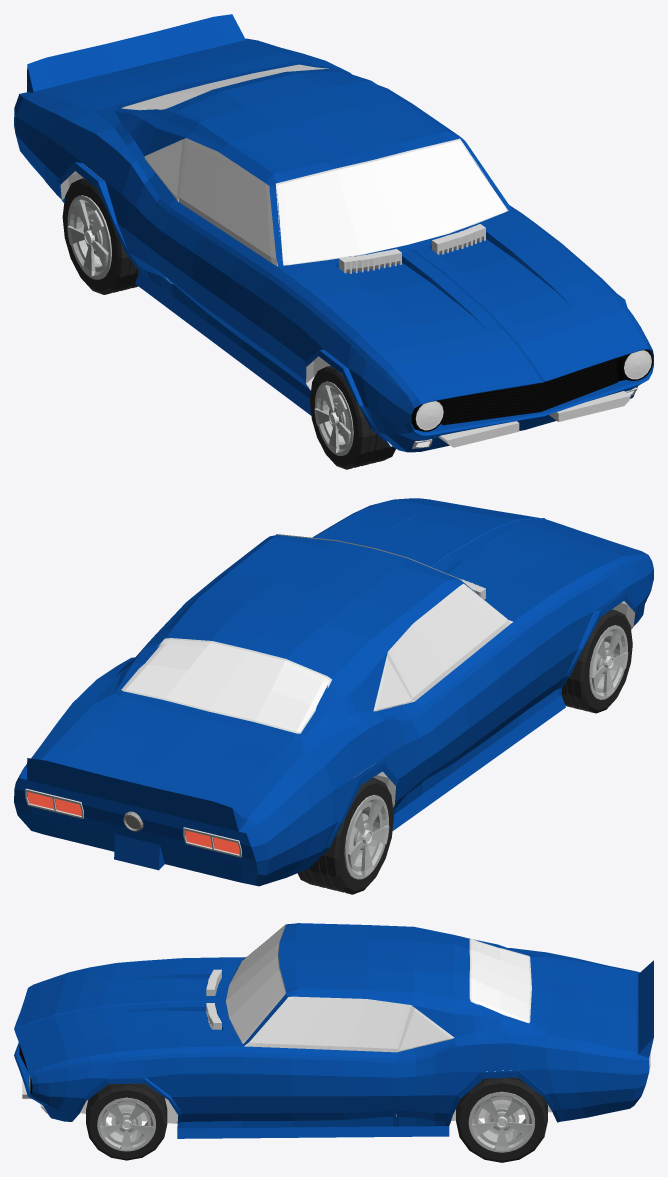
File: car.glb
3 renders of one model, top to bottom at view 1: azimuth 30°, elevation 25°; view 2: azimuth 150°, elevation 25°; view 3: azimuth 270°, elevation 25°, orthographic. The views are drawn at different scales.
Parts seen in each view (by area): view 1: Carroceria.001, Parabrisas_Ad, Pueratas, Ventana_1, Rejilla, Ruedas_Ad.002, Ruedas_Tr, Rin_1_Tr, Plano.002, Rin_1_Ad, Cubo, Parabrisas_Tr (+4 smaller); view 2: Carroceria.001, Parabrisas_Tr, Pueratas, Ventana_1, Ruedas_Tr, Ruedas_Ad.002, Rin_1_Tr, Rin_1_Ad, Luz_Tr, Marco_Parabrisad_Tr, Ventana_2; view 3: Carroceria.001, Pueratas, Ventana_1, Parabrisas_Ad, Parabrisas_Tr, Ruedas_Tr.001, Ruedas_Ad.001, Rin_1_Tr.001, Rin_1_Ad.001, Ventana_2, Cubo, Marco_Ventana_2 (+2 smaller).
Part boxes in pixels (left/top/right/bottom): Carroceria.001: left=14, top=14, right=653, bottom=452; Parabrisas_Ad: left=277, top=140, right=507, bottom=264; Pueratas: left=156, top=202, right=519, bottom=367; Ventana_1: left=178, top=138, right=277, bottom=266; Rejilla: left=441, top=358, right=617, bottom=425; Ruedas_Ad.002: left=310, top=365, right=395, bottom=469; Ruedas_Tr: left=62, top=178, right=139, bottom=294; Rin_1_Tr: left=67, top=195, right=111, bottom=279; Plano.002: left=438, top=391, right=630, bottom=447; Rin_1_Ad: left=314, top=381, right=353, bottom=455; Cubo: left=339, top=224, right=485, bottom=273; Parabrisas_Tr: left=124, top=65, right=326, bottom=109; Carroceria.001: left=14, top=498, right=653, bottom=886; Parabrisas_Tr: left=124, top=639, right=329, bottom=731; Pueratas: left=415, top=622, right=540, bottom=780; Ventana_1: left=388, top=583, right=511, bottom=701; Ruedas_Tr: left=297, top=778, right=393, bottom=894; Ruedas_Ad.002: left=561, top=609, right=632, bottom=713; Rin_1_Tr: left=344, top=794, right=389, bottom=879; Rin_1_Ad: left=589, top=625, right=628, bottom=699; Luz_Tr: left=25, top=788, right=241, bottom=857; Marco_Parabrisad_Tr: left=121, top=638, right=331, bottom=733; Ventana_2: left=377, top=659, right=411, bottom=709; Carroceria.001: left=14, top=923, right=653, bottom=1138; Pueratas: left=230, top=957, right=396, bottom=1120; Ventana_1: left=245, top=996, right=411, bottom=1052; Parabrisas_Ad: left=226, top=925, right=285, bottom=1043; Parabrisas_Tr: left=471, top=939, right=530, bottom=1021; Ruedas_Tr.001: left=456, top=1077, right=547, bottom=1162; Ruedas_Ad.001: left=86, top=1083, right=167, bottom=1160; Rin_1_Tr.001: left=468, top=1091, right=534, bottom=1152; Rin_1_Ad.001: left=97, top=1097, right=155, bottom=1151; Ventana_2: left=400, top=1010, right=450, bottom=1049; Cubo: left=206, top=969, right=221, bottom=1029; Marco_Ventana_2: left=397, top=1005, right=454, bottom=1052.
Bounding box in the file's own units: 3.92 × 2.68 × 9.85.
